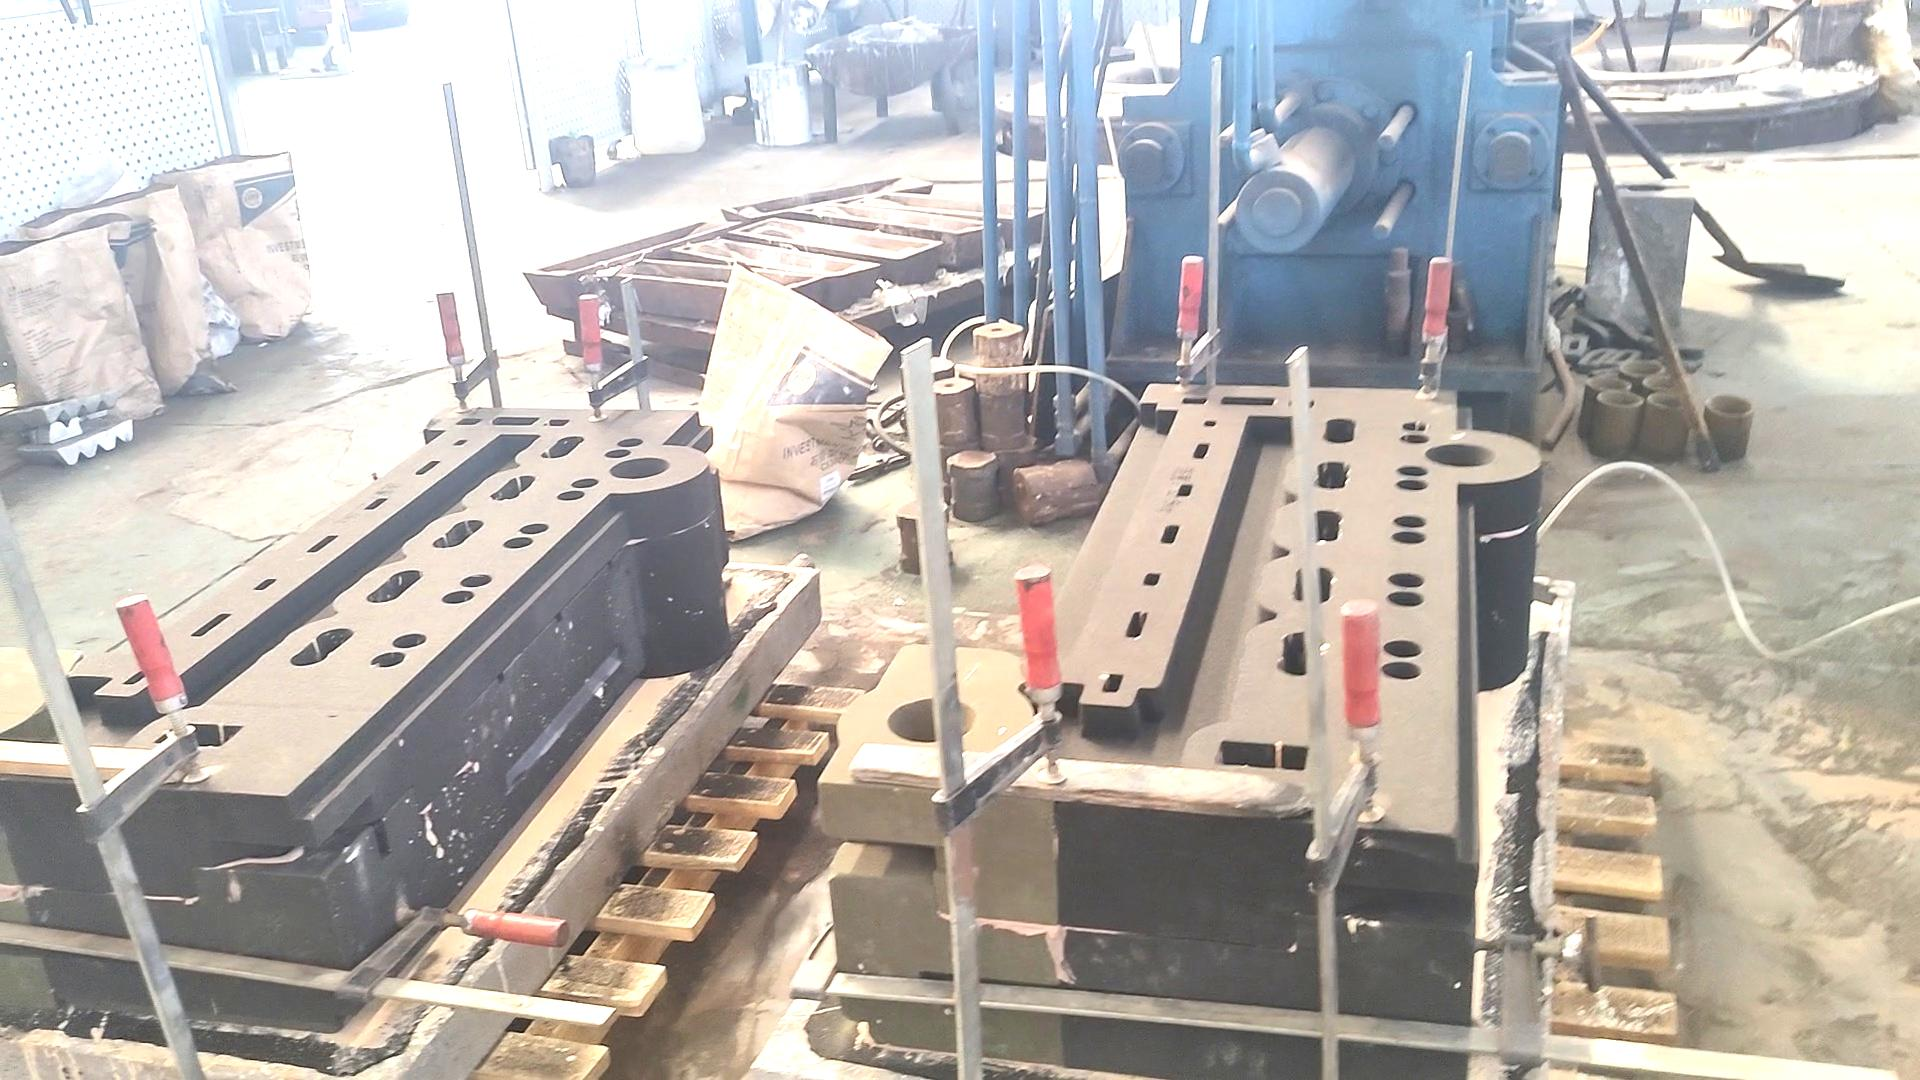pouring hole: (887, 696, 978, 742), (1423, 444, 1495, 465), (1706, 393, 1756, 417), (609, 458, 669, 477), (1644, 373, 1691, 392), (1648, 393, 1695, 411), (1596, 390, 1644, 407), (1619, 361, 1665, 375), (1586, 377, 1630, 390)
